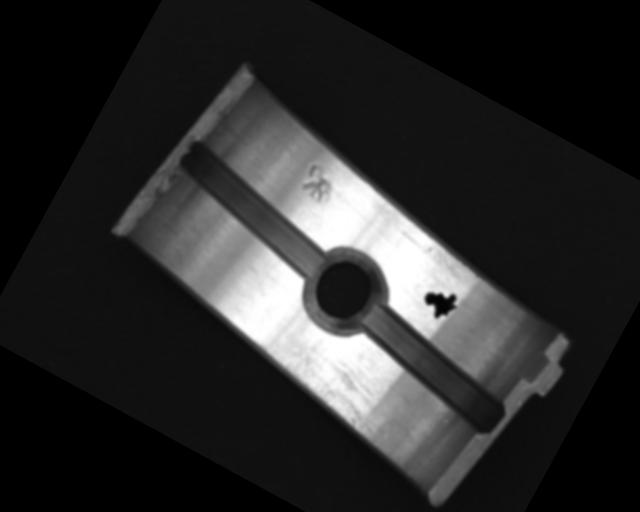blot: (416, 281, 464, 326)
bruise: (296, 160, 343, 207)
gap: (158, 137, 347, 284), (340, 299, 522, 439)
hole: (289, 239, 398, 348)
scratch: (244, 315, 414, 451)
